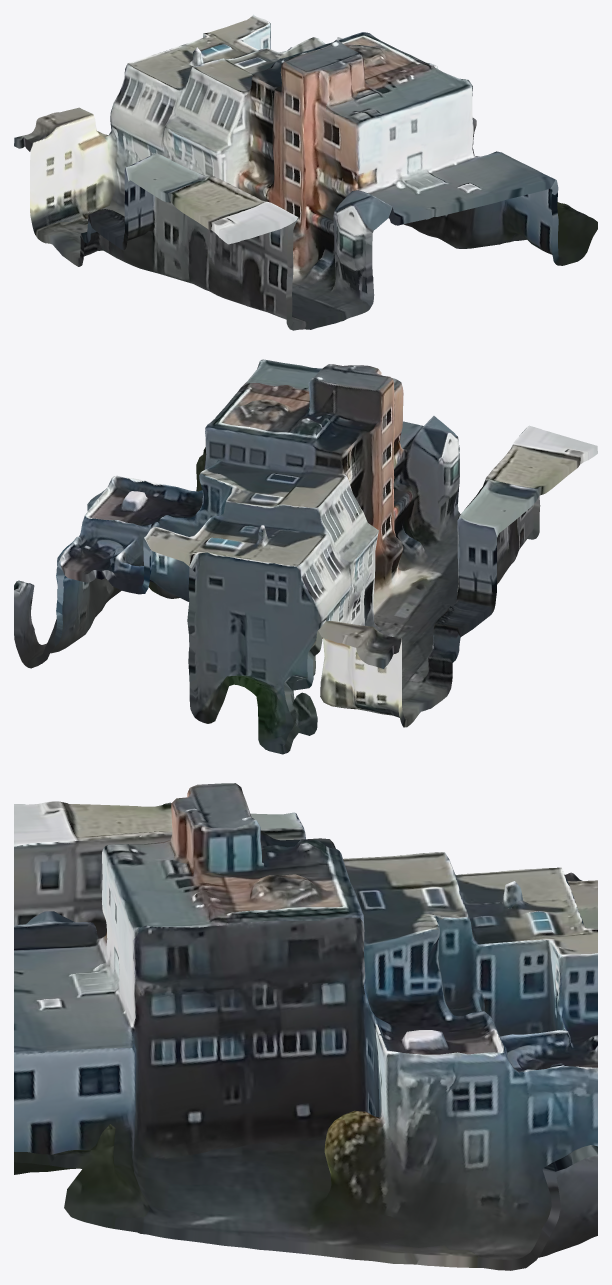
File: z20-167746-405193-h0-yup-uvflip-v3-world.glb
3 views of the same model, one above another, from view 1: azimuth 30°, elevation 25°; view 2: azimuth 150°, elevation 25°; view 3: azimuth 270°, elevation 25° (orthographic). The views are drawn at different scales.
Bounding box in the file's own units: 30.2 × 20.36 × 30.32.
1 material, 1 textured.
